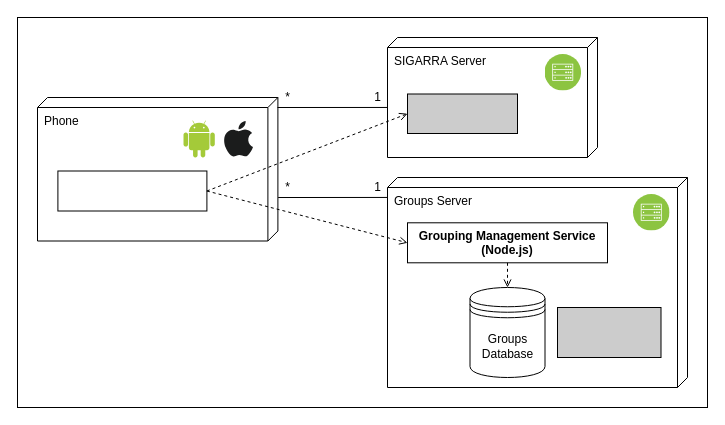
The diagram is 725 pixels wide and 425 high, and some of its shapes have lost their labels. Each missing label, with the centre of its shape:
"DBMS (MongoDB)" goes at point (608, 332).
"SIGARRA API" goes at point (462, 113).
"UNI Workluster App (Flutter)" goes at point (132, 190).
